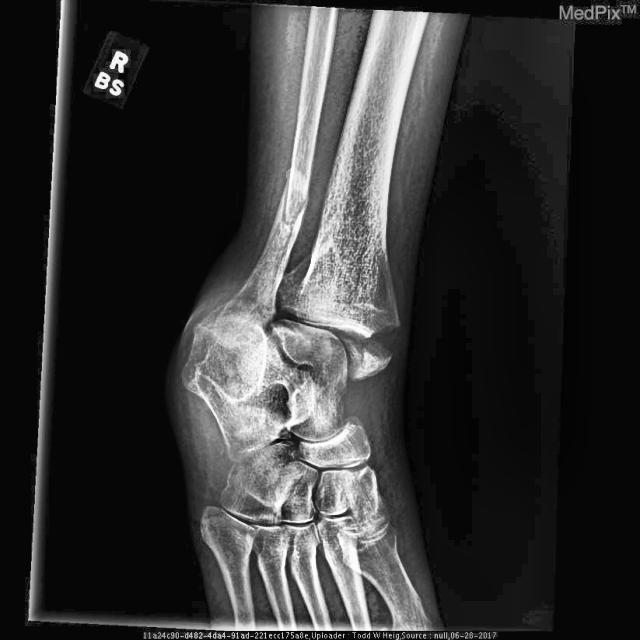angle: (270, 179, 308, 242)
